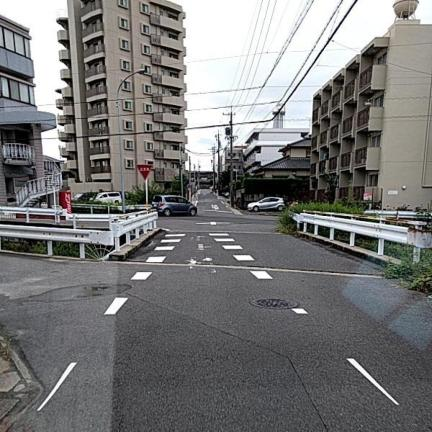Road: (0, 192, 431, 431)
